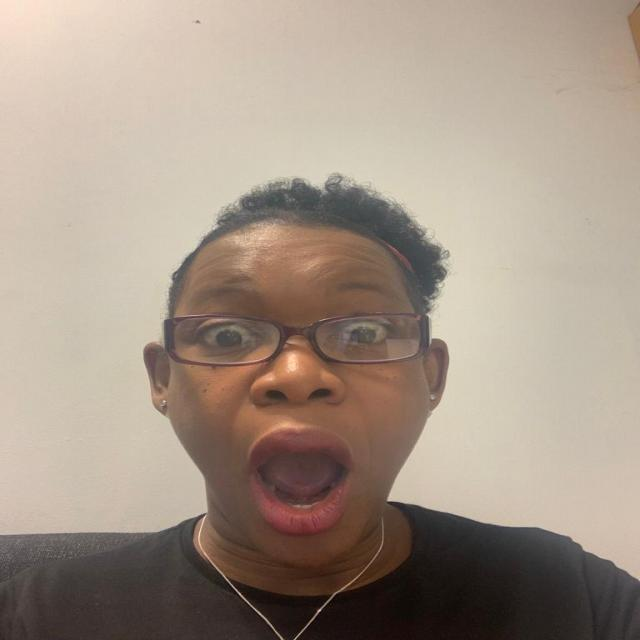happy: (133, 186, 464, 573)
